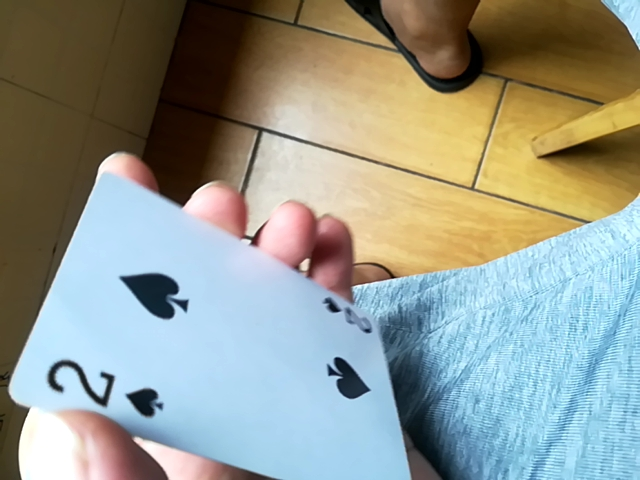ht 2: (16, 152, 424, 477)
